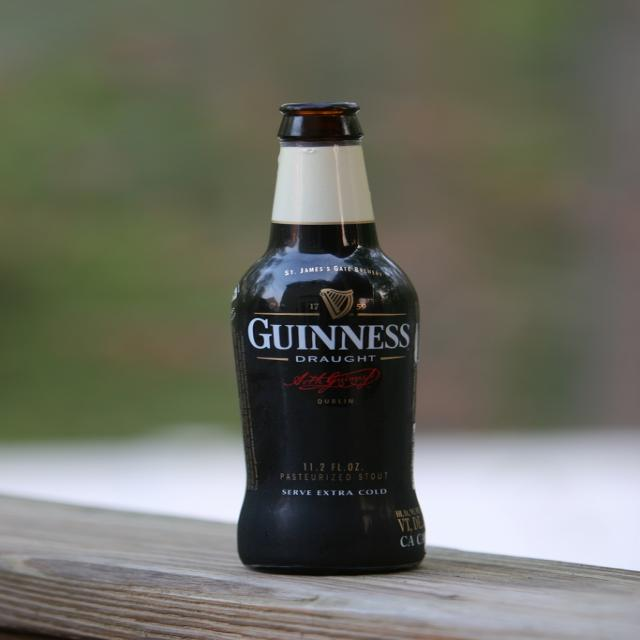guiness: (242, 286, 414, 352)
